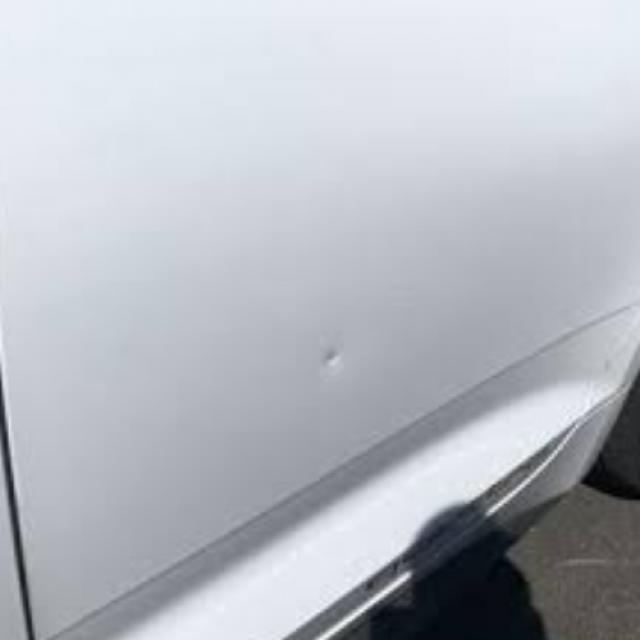dents: (291, 329, 367, 379)
